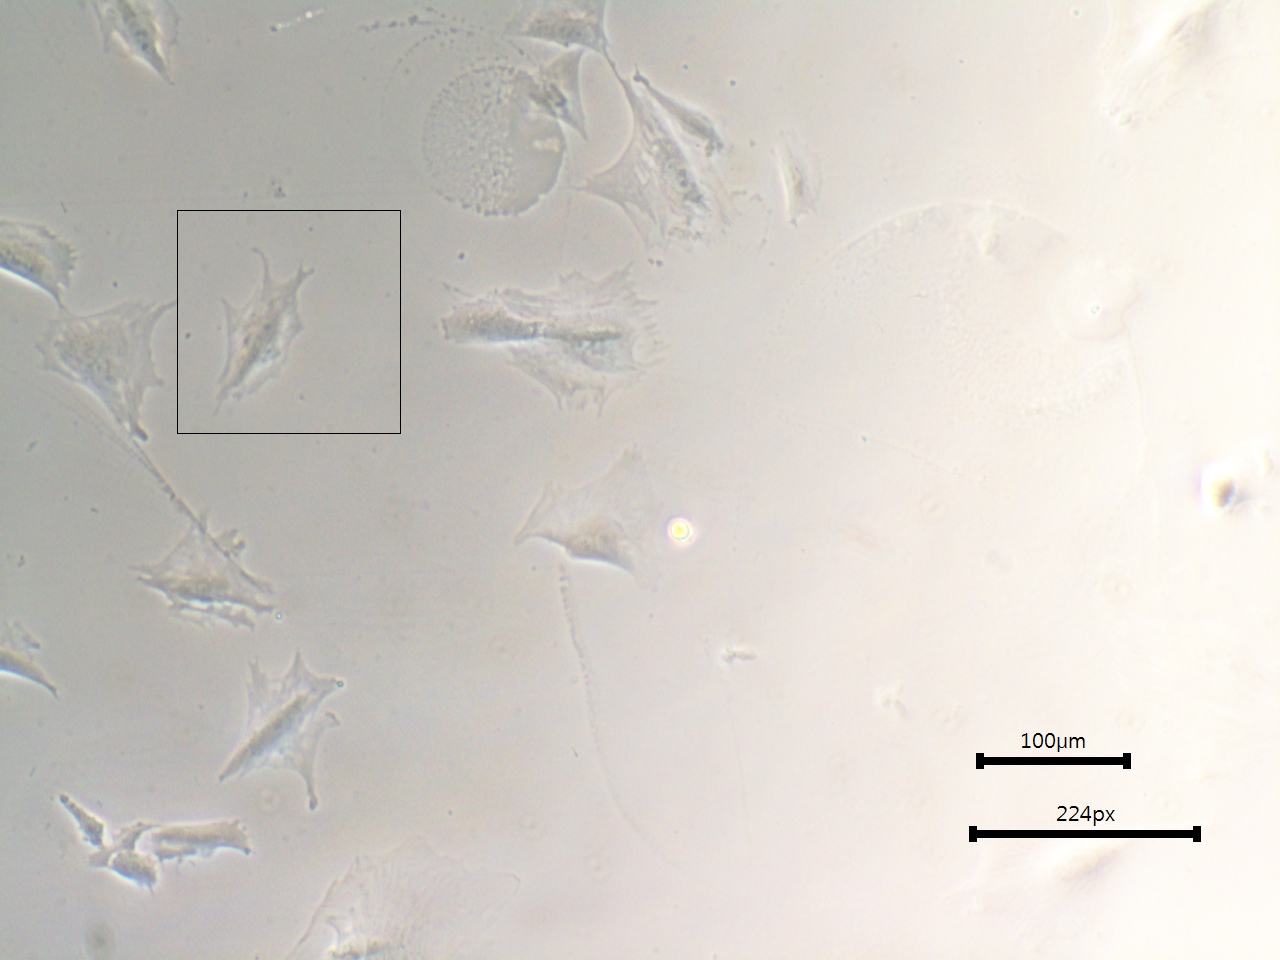large-spread: (429, 253, 661, 410)
medium-spread: (104, 501, 284, 642), (509, 450, 670, 593), (207, 653, 349, 816), (26, 301, 170, 450), (202, 240, 326, 411)
small-polygonal: (772, 136, 821, 230)
